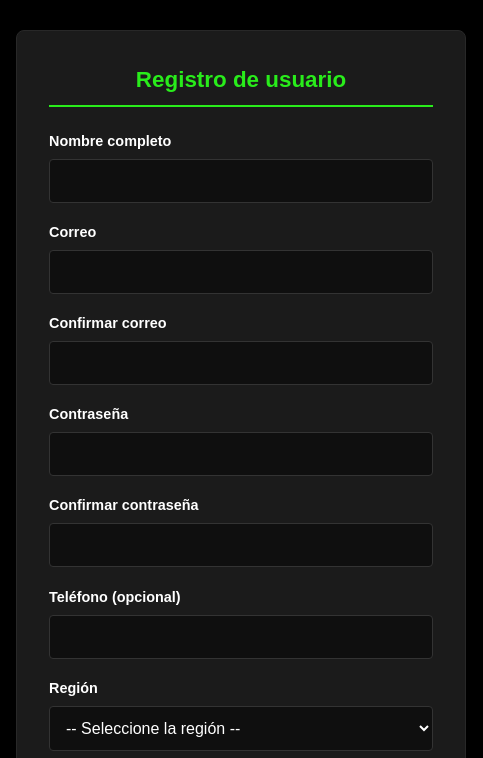
Registro › valida que la contraseña cumpla el formato exigido
Type "1234" into the password field labelled "Contraseña" at (241, 454), box [49,432,433,476]
(page scrolled)
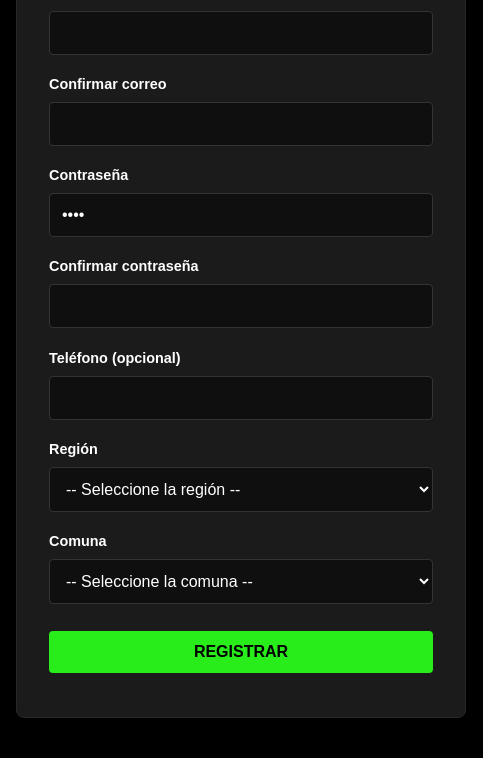
Click the button "Registrar" at (241, 652), box [49,631,433,673]
(page scrolled)
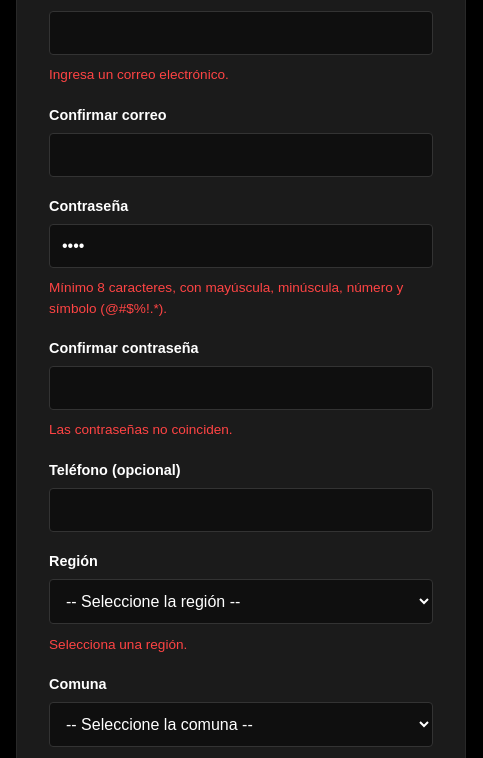
Check: the text "Mínimo 8 caracteres" is shown, box [49,280,403,316]
